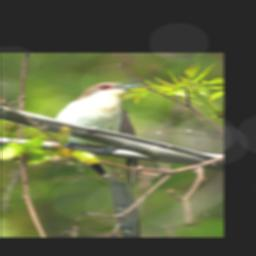Cuckoo: (51, 81, 148, 237)
